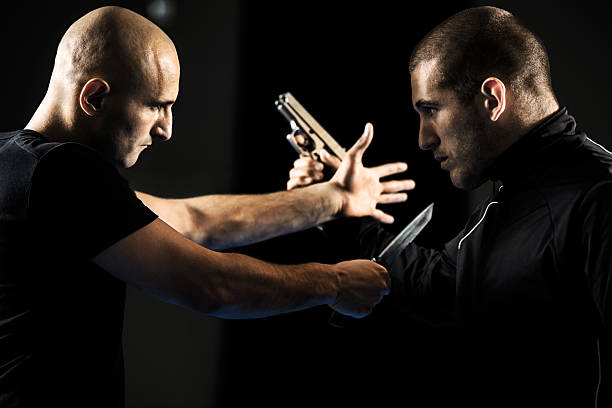gun: (274, 91, 349, 233)
knife: (328, 203, 436, 332)
